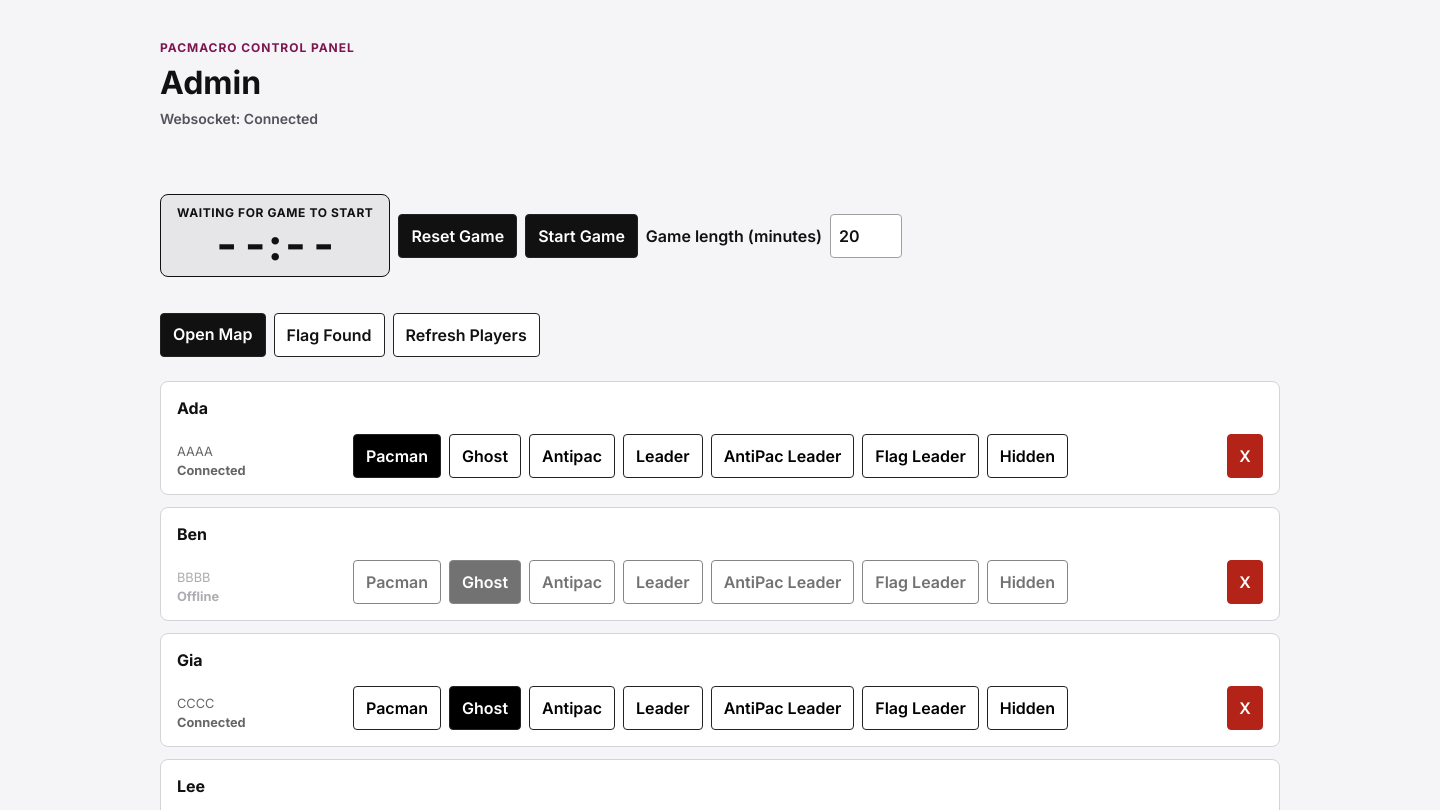
AdminPageComponent › removes a connected player after confirmation
This screenshot has width=1440, height=810.
Click the button "X" in the row of "AAAA": (1245, 456) [1227,434,1263,478]
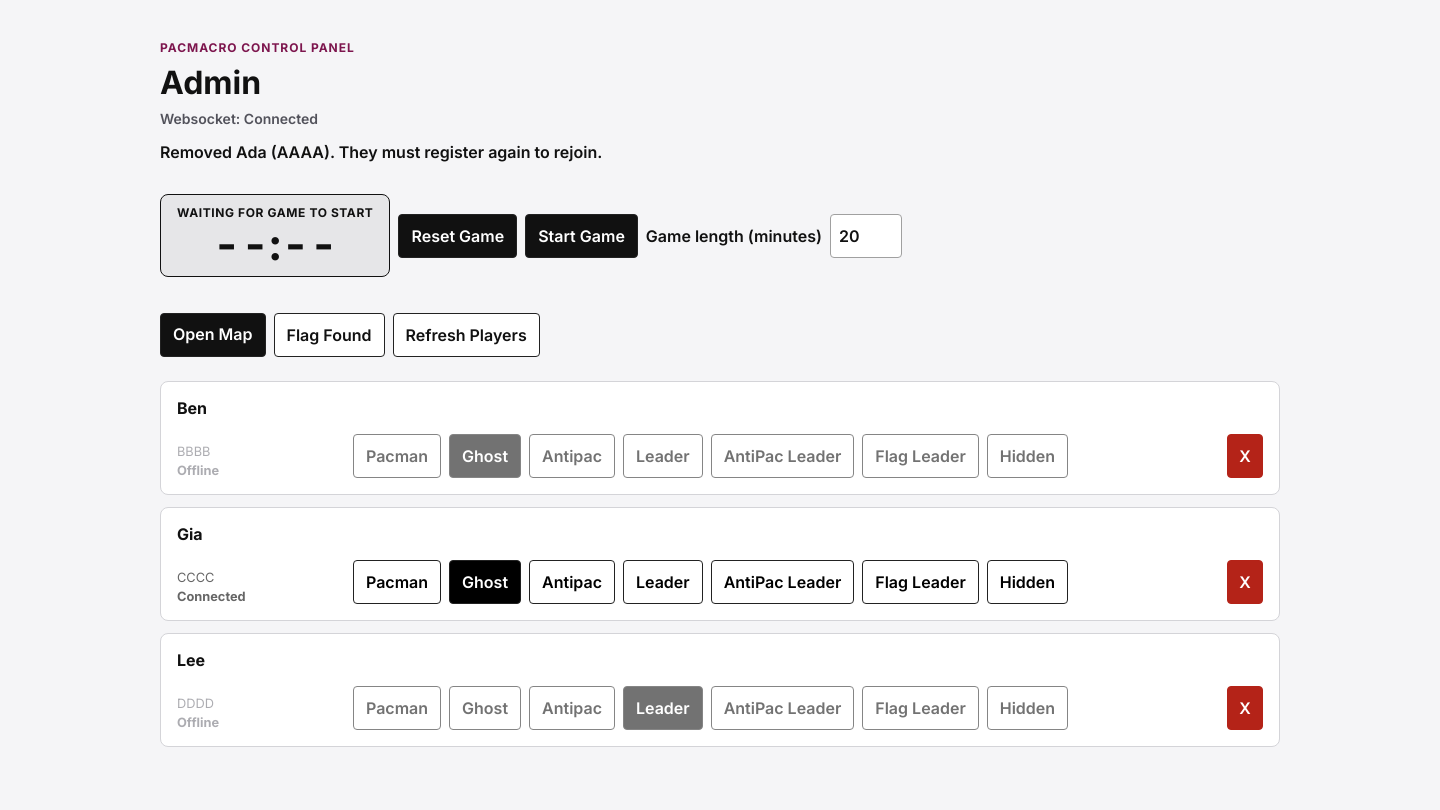
Check: the message with class "admin-status" shows "must register again", box [160,142,602,162]
